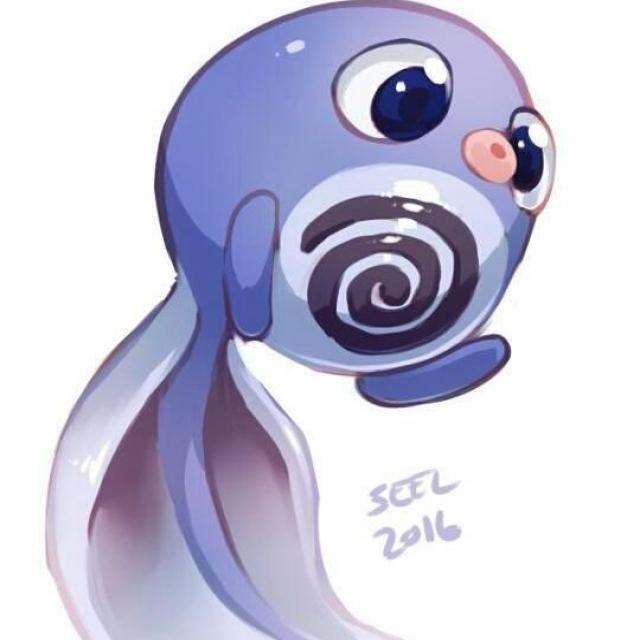Poliwag: (139, 3, 566, 440)
